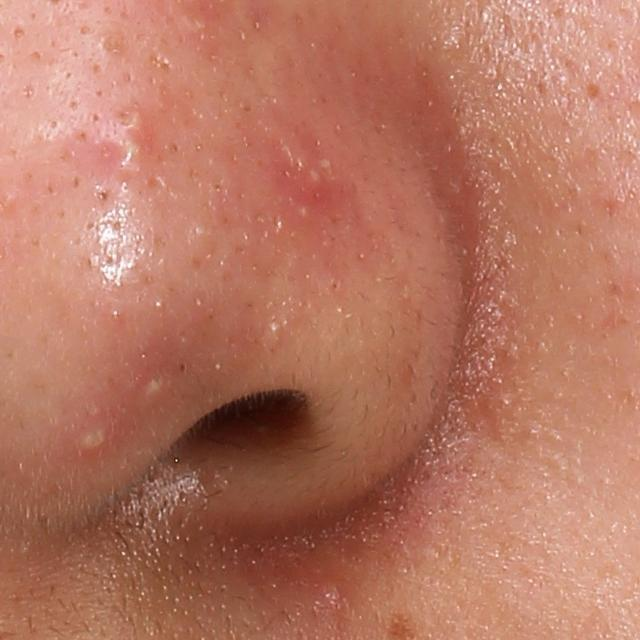comedo: (95, 31, 126, 61), (10, 23, 30, 41), (76, 21, 95, 37)
pustule: (80, 420, 113, 455), (135, 371, 165, 403)
